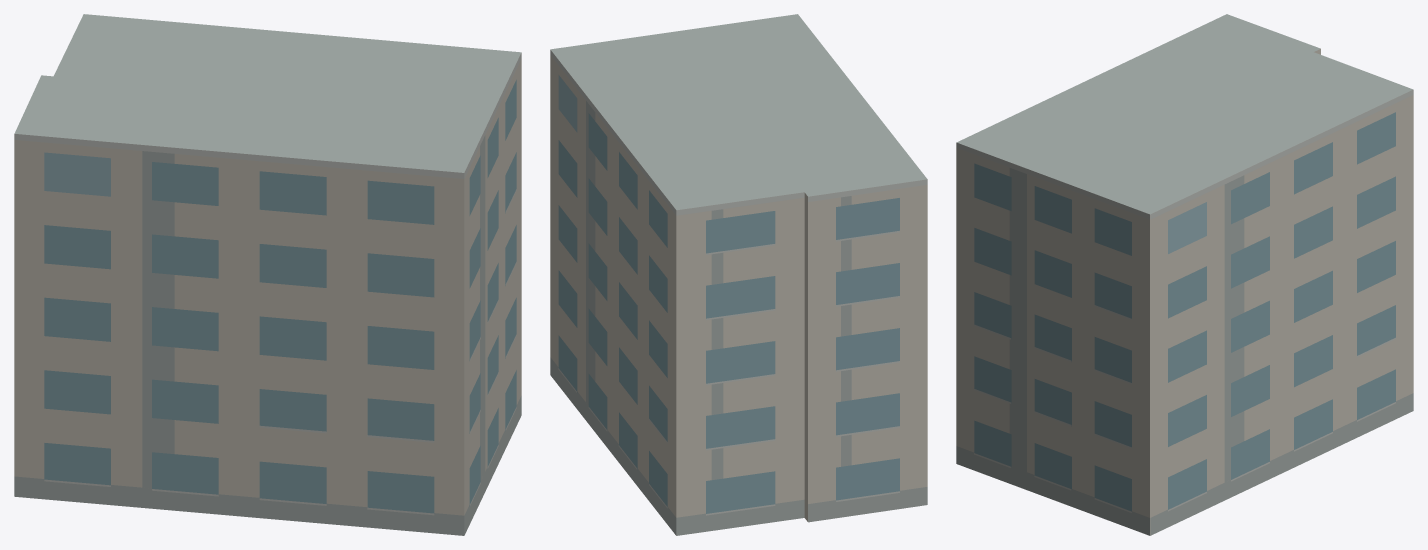
The model's file is survey-upis-32788600.glb.
The picture shows the model from 3 angles, left to right: view 1: azimuth 30°, elevation 25°; view 2: azimuth 150°, elevation 25°; view 3: azimuth 270°, elevation 25°; orthographic projection. The views are drawn at different scales.
Visible parts, largest first — view 1: survey-upis-32788600.tmp; view 2: survey-upis-32788600.tmp; view 3: survey-upis-32788600.tmp.
Part boxes in pixels (x1,y1,x2,y2): survey-upis-32788600.tmp: [14, 14, 521, 535]; survey-upis-32788600.tmp: [550, 14, 927, 535]; survey-upis-32788600.tmp: [956, 14, 1413, 535].
Size of the model in its own units: 19.47 by 14.55 by 18.76.
